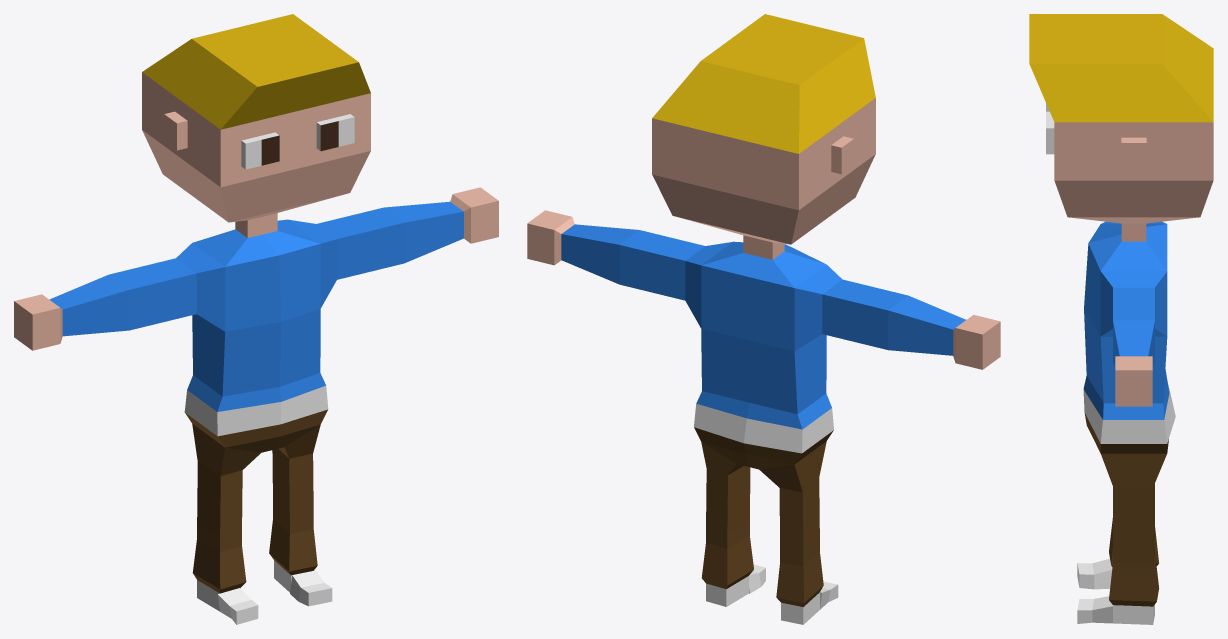
File: pedestrianBrowneBlue.gltf
3 views of the same model, side by side, from view 1: azimuth 30°, elevation 25°; view 2: azimuth 150°, elevation 25°; view 3: azimuth 270°, elevation 25° (orthographic). The views are drawn at different scales.
Parts seen in each view (by area): view 1: pedestrian blonde brown eyes.001; view 2: pedestrian blonde brown eyes.001; view 3: pedestrian blonde brown eyes.001.
Boxes of the visible parts, x1=… form: pedestrian blonde brown eyes.001: x1=14, y1=14, x2=498, y2=624; pedestrian blonde brown eyes.001: x1=527, y1=14, x2=1000, y2=624; pedestrian blonde brown eyes.001: x1=1029, y1=14, x2=1213, y2=624.
Size of the model in its own units: 1.29 by 1.47 by 0.437.
1 material, 1 textured.
